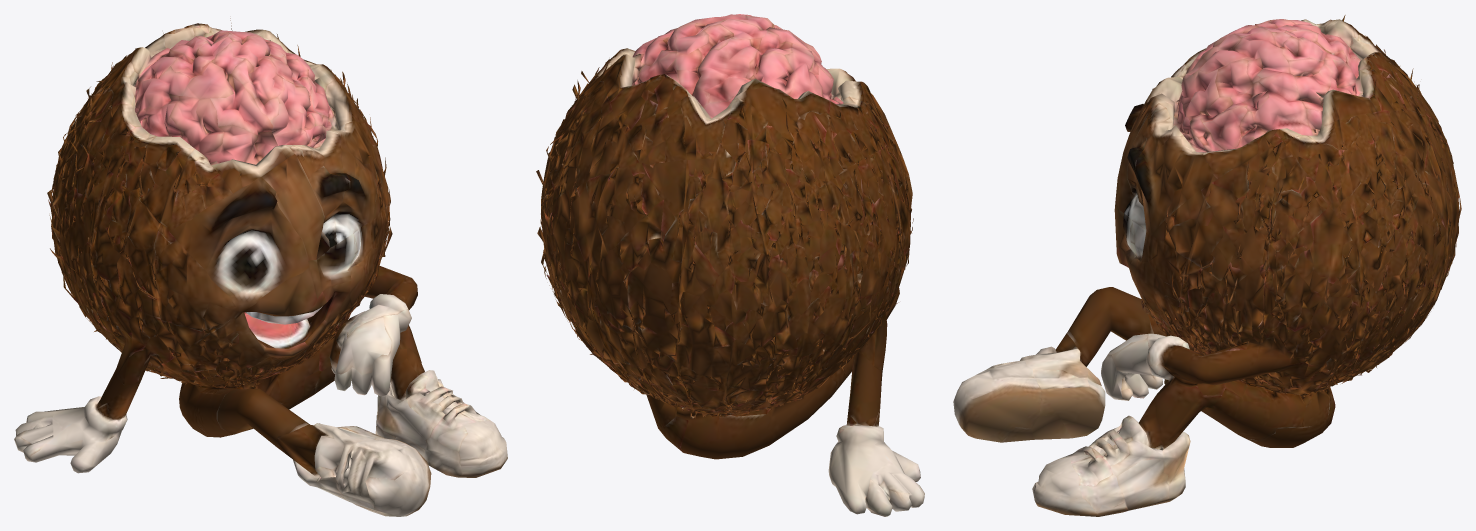
The model's file is cocobrain_mascot_sitt.glb.
3 renders of one model, left to right at view 1: azimuth 30°, elevation 25°; view 2: azimuth 150°, elevation 25°; view 3: azimuth 270°, elevation 25°, orthographic. The views are drawn at different scales.
Visible parts, largest first — view 1: mesh_node; view 2: mesh_node; view 3: mesh_node.
Part boxes in pixels (x1,y1,x2,y2): mesh_node: [14, 18, 507, 516]; mesh_node: [536, 14, 924, 516]; mesh_node: [953, 15, 1461, 516].
Size of the model in its own units: 1.64 by 1.65 by 1.9.
1 material, 1 textured.
